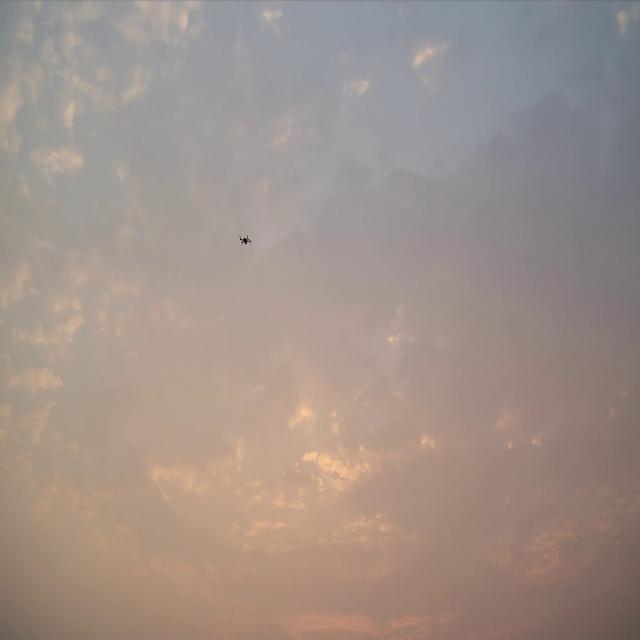drone: (239, 234, 252, 246)
